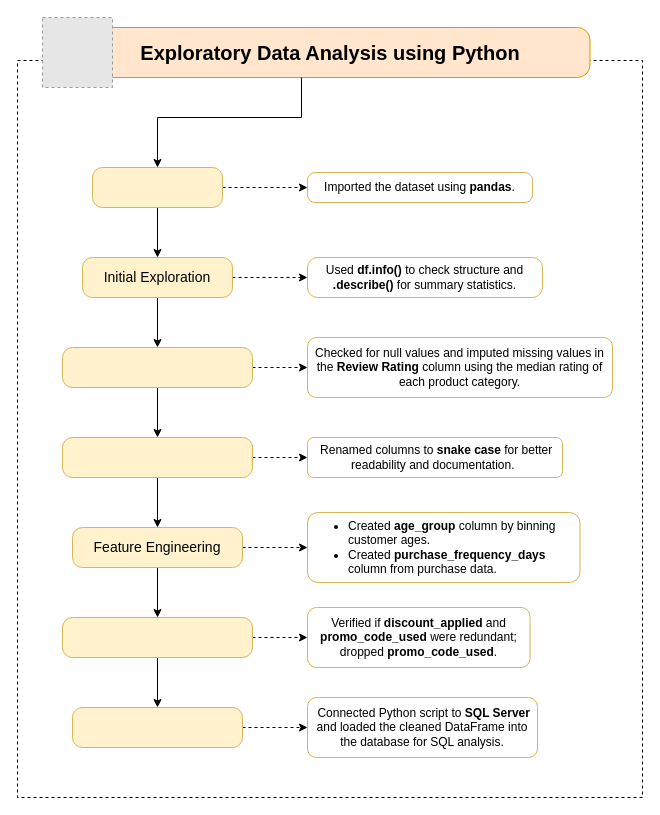
Image size: 660x815. Some labels were removed from this diagram. Grey dashed boxes stand in for pictures. The shapes that lost their labels are listed below. From the top down, each one's centre as x and y in pixels, then its label:
At pixel 157 187: "Data Loading".
At pixel 157 367: "Missing Data Handling".
At pixel 157 457: "Column Standardization".
At pixel 157 637: "Data Consistency Check".
At pixel 157 727: "Database Integration".
